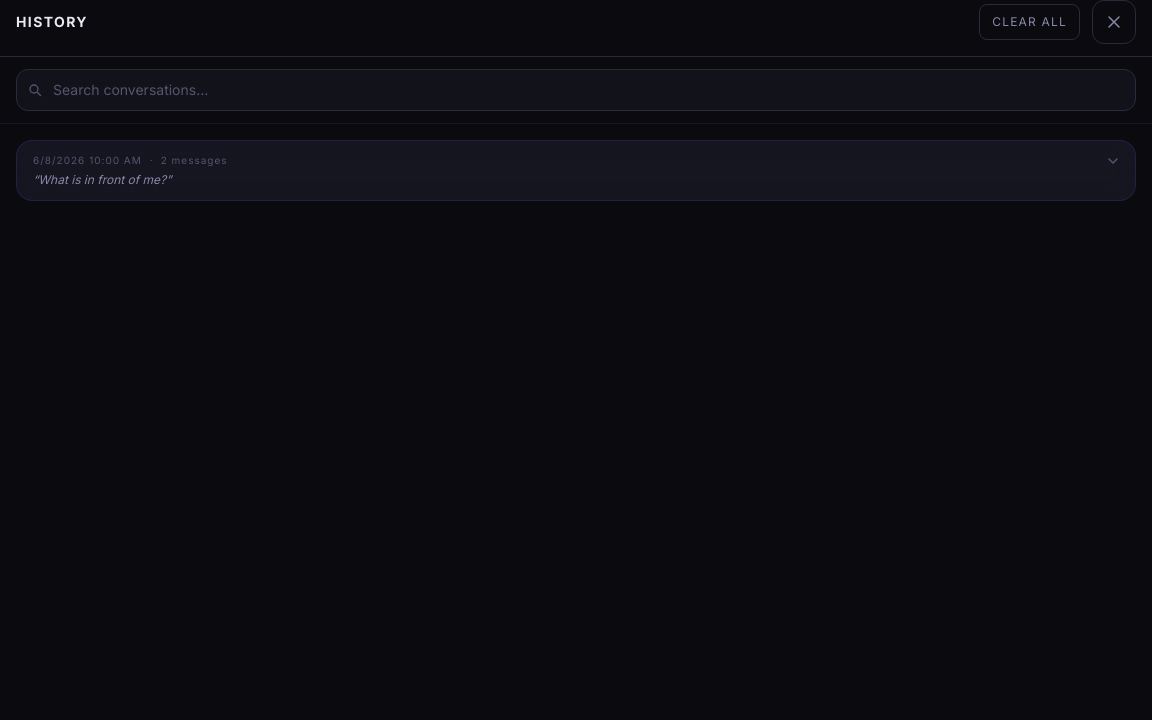
Scenario: ConversationHistory › shows no-match message when search finds nothing
In the field with placeholder "Search conversations…": (576, 90) [16,69,1136,111], type "zzznomatch"
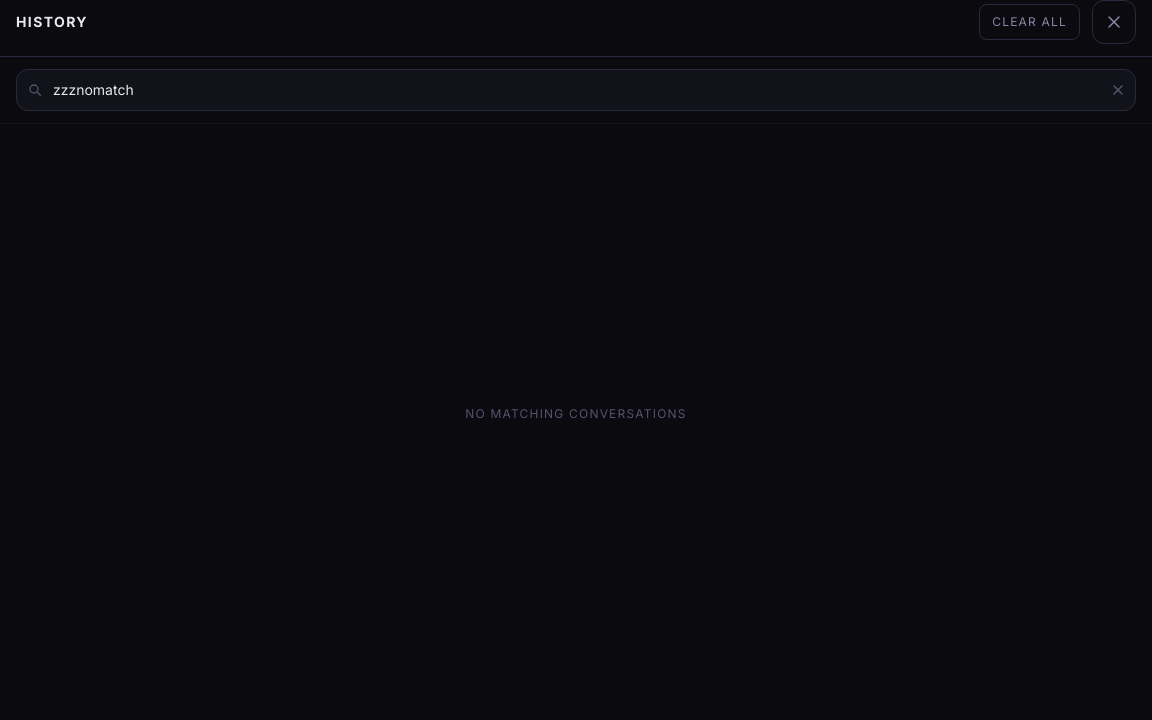
Now the text "No matching conversations" is shown, box [465,406,687,422]
